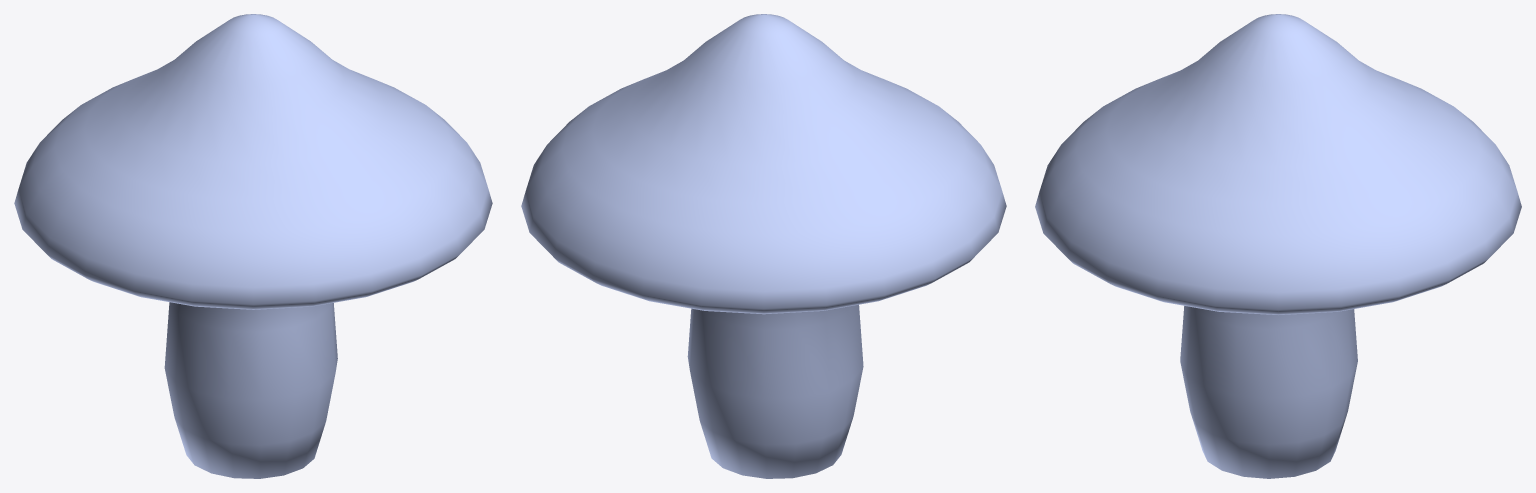
File: small-mushroom.fbx
The picture shows the model from 3 angles, left to right: view 1: azimuth 30°, elevation 25°; view 2: azimuth 150°, elevation 25°; view 3: azimuth 270°, elevation 25°; orthographic projection.
Parts seen in each view (by area): view 1: small-mushroom; view 2: small-mushroom; view 3: small-mushroom.
Part boxes in pixels (x1,y1,x2,y2): small-mushroom: (14,14,492,478); small-mushroom: (521,14,1006,478); small-mushroom: (1035,14,1521,478).
Size of the model in its own units: 0.4769 by 0.4748 by 0.4769.
